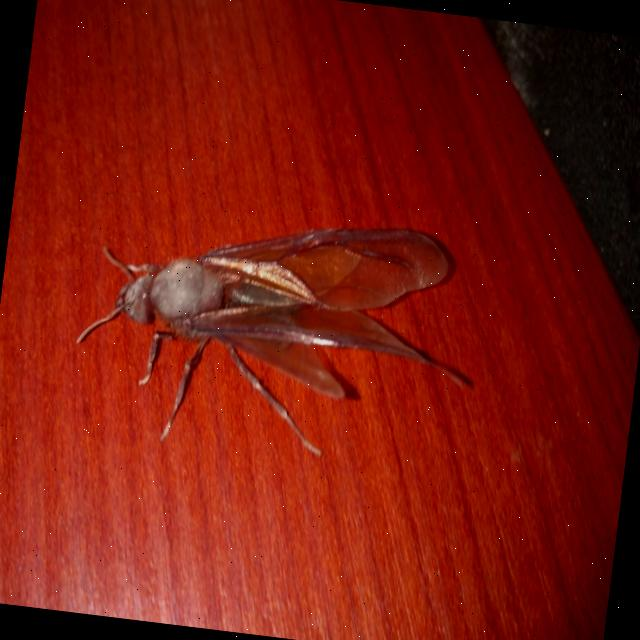Alive-Female-Alate: (64, 187, 482, 478)
